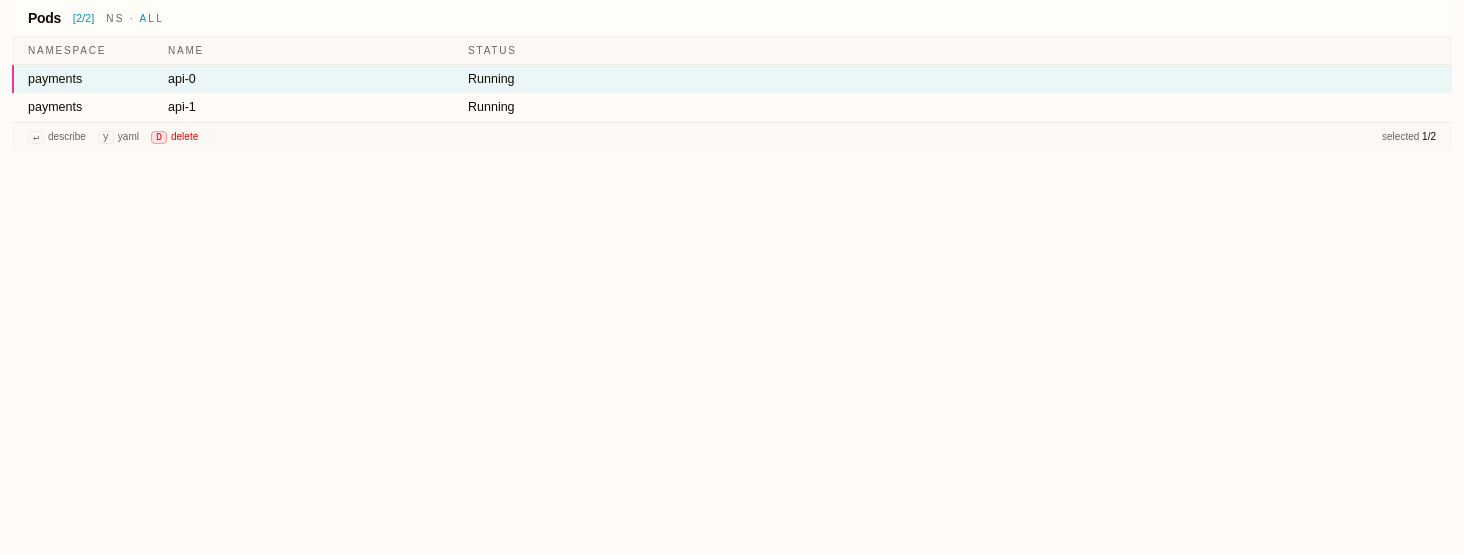
Test case: ResourceTable delete action › keeps the dialog open and shows the error when the delete fails
Press D
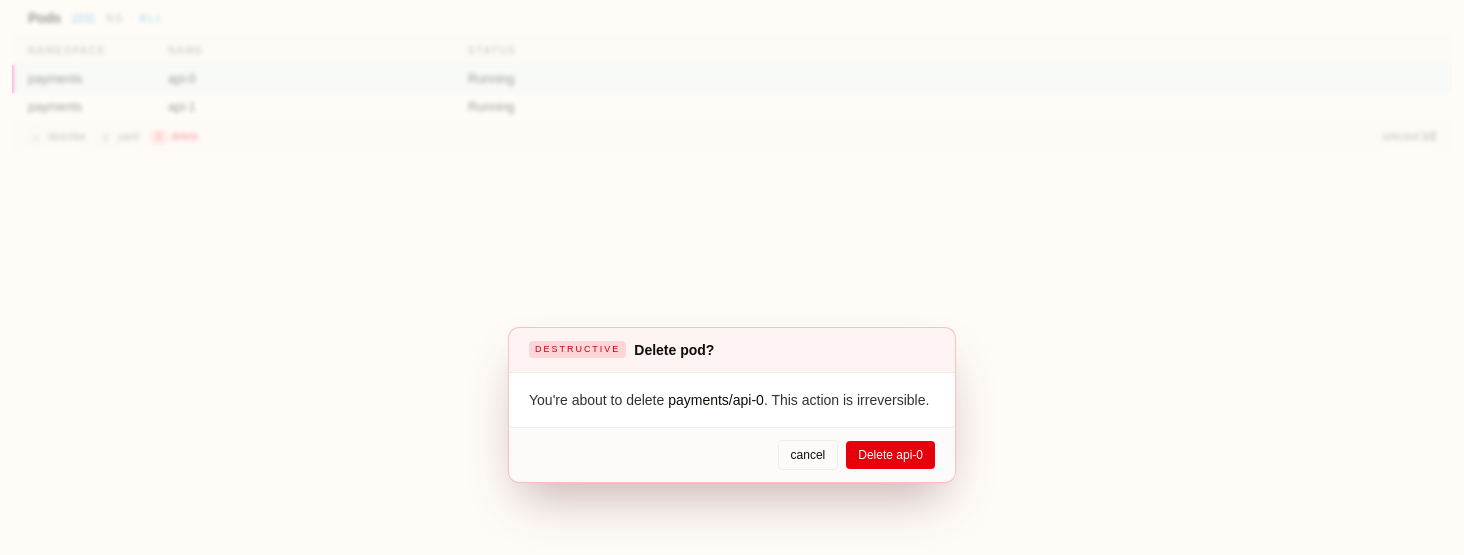
Click the button "Delete api-0" at point(891, 455), box [846,441,935,469]
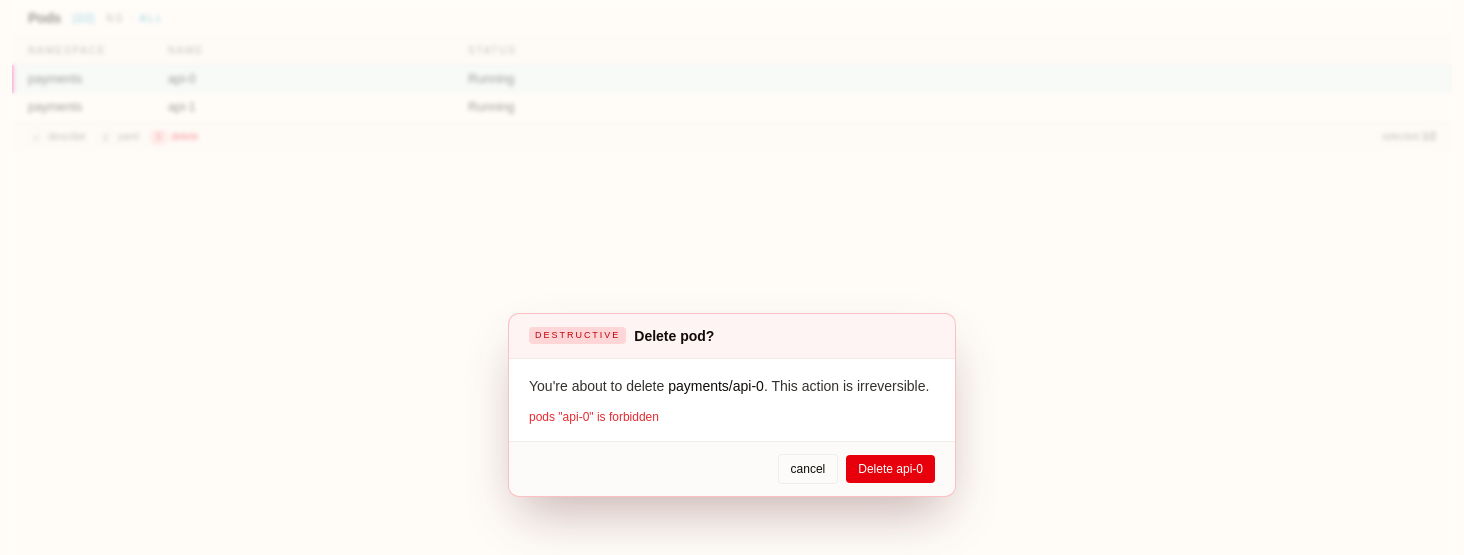
Now the button "Delete api-0" is shown, box [846,455,935,483]
Now the text "pods \"api-0\" is forbidden" is shown, box [529,410,659,424]
